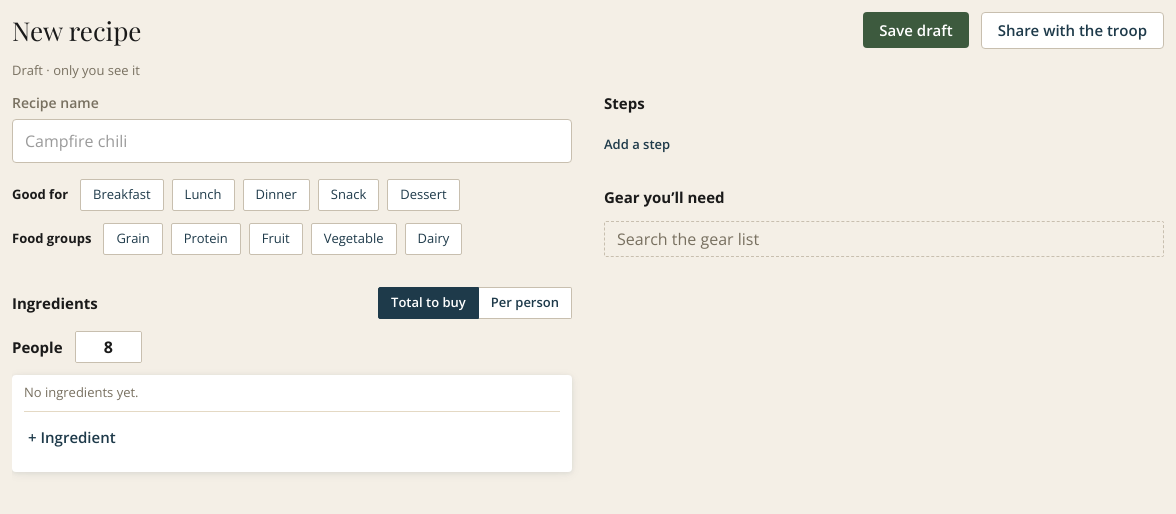
it: RecipeEditor saving › Save_NeedsAName
The image size is (1176, 514).
Click the button "Save draft".
click(916, 30)  # box top-left (863, 12), bottom-right (969, 48)
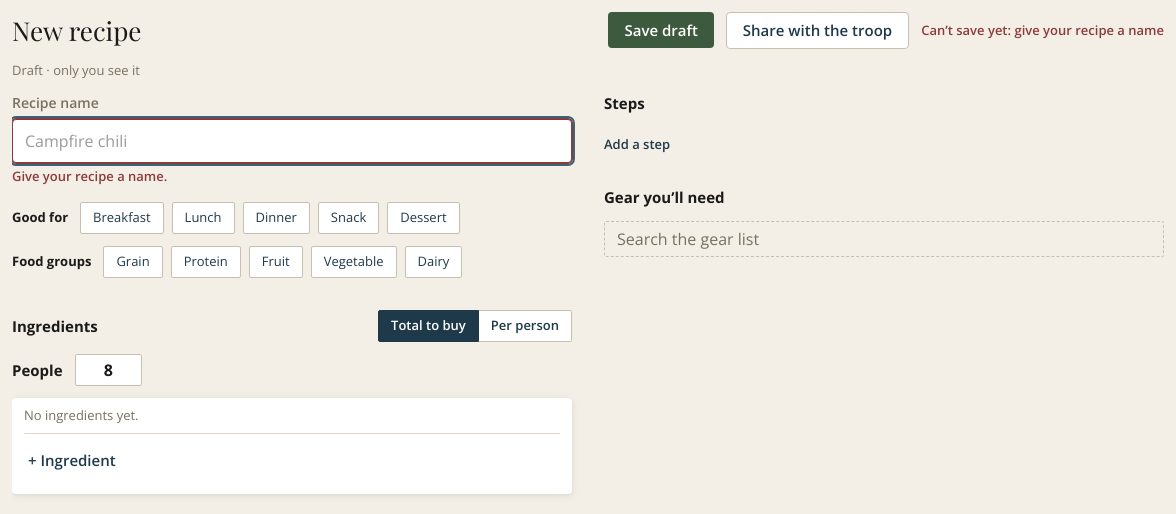
Result: the text "Give your recipe a name." is shown at top-left (12, 167), bottom-right (167, 185)
